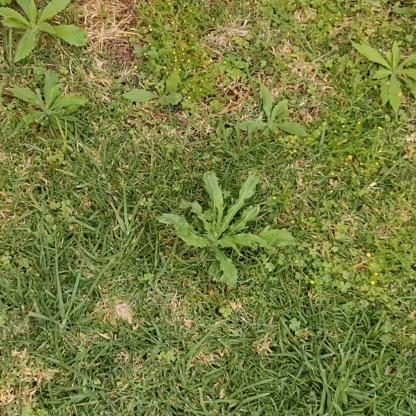Weeds: (158, 168, 294, 291), (7, 69, 92, 133), (2, 2, 87, 65), (349, 37, 415, 112), (237, 82, 308, 143), (124, 72, 183, 110)
